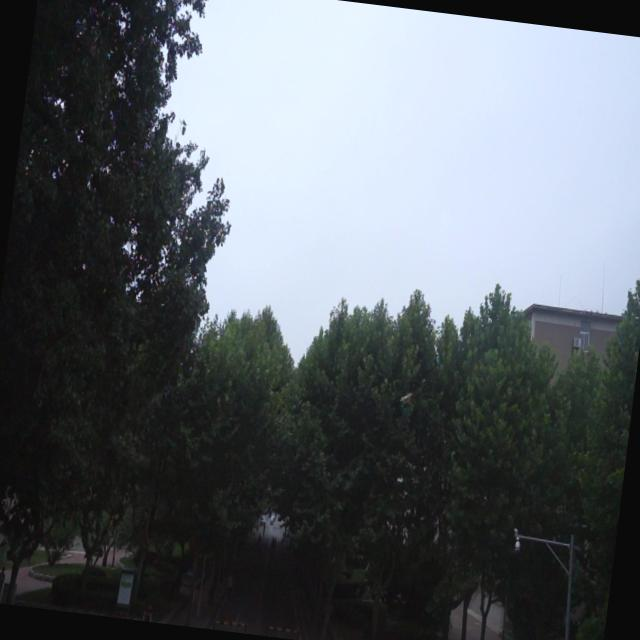drone: (396, 388, 417, 406)
